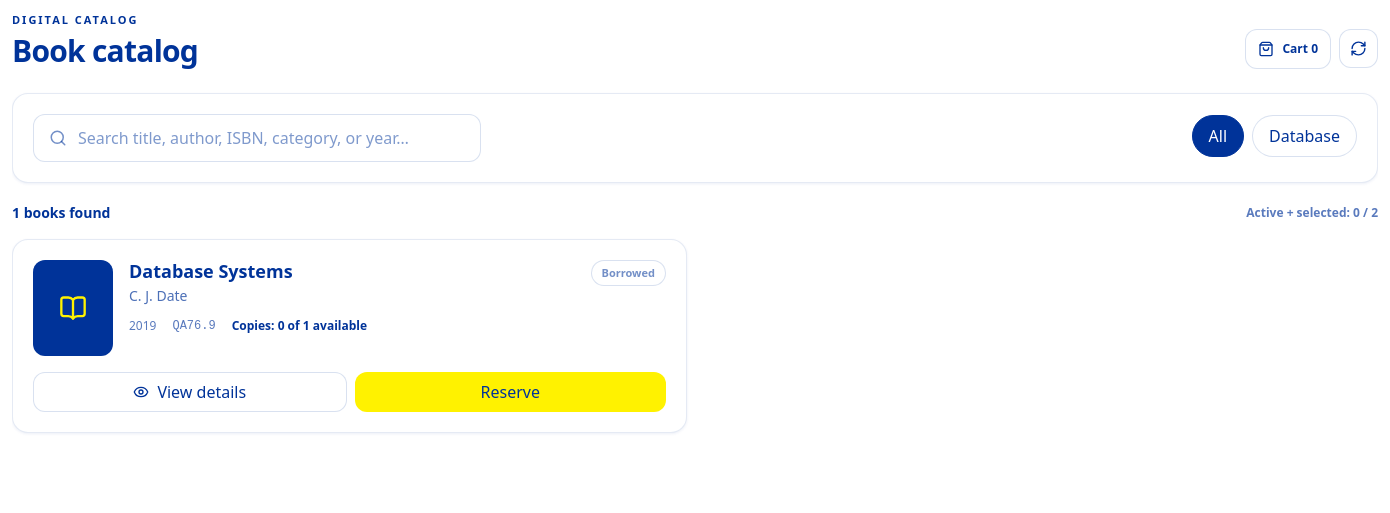
Test: BookCatalog availability refresh › shows the backend warning when the student already borrowed the selected title
What coordinates should you click on to do the following:
click the button "Reserve"
I would click on:
 (510, 392)
Its box is [354, 372, 666, 412].
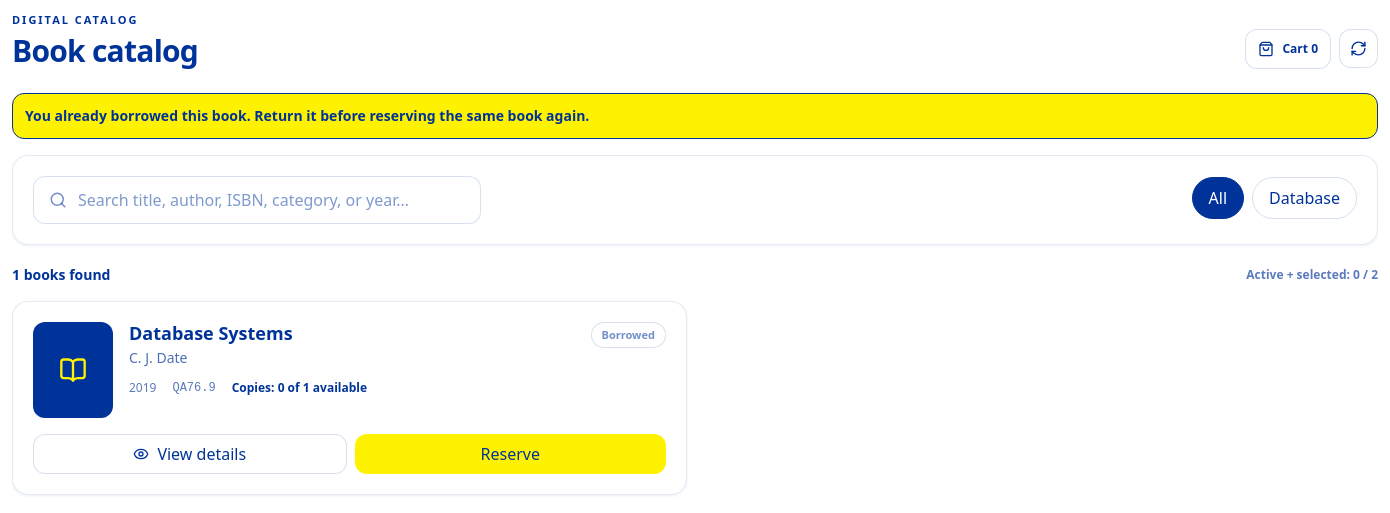
Check: the message shows "You already borrowed this book", box [25, 106, 589, 124]
